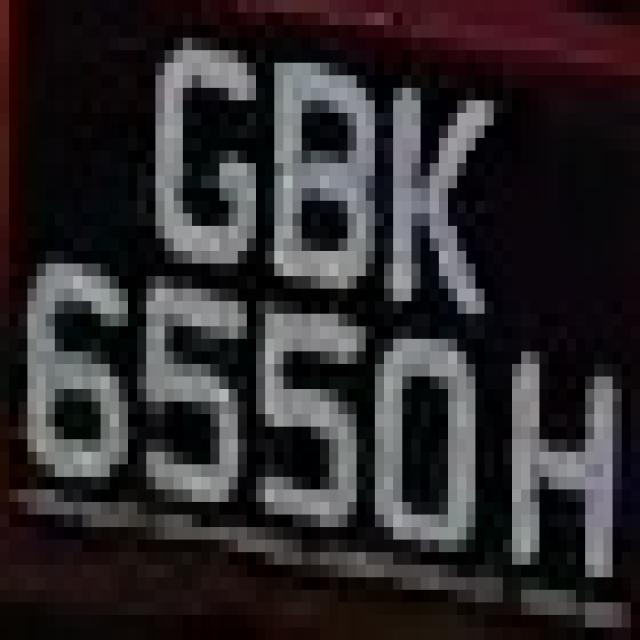0: (375, 314, 484, 577)
5: (119, 226, 238, 552), (265, 264, 357, 577)
6: (18, 213, 119, 578)
B: (247, 25, 384, 351)
G: (119, 0, 274, 289)
H: (484, 326, 631, 640)
K: (356, 75, 494, 339)
